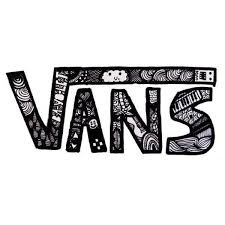vans: (6, 67, 216, 155)
